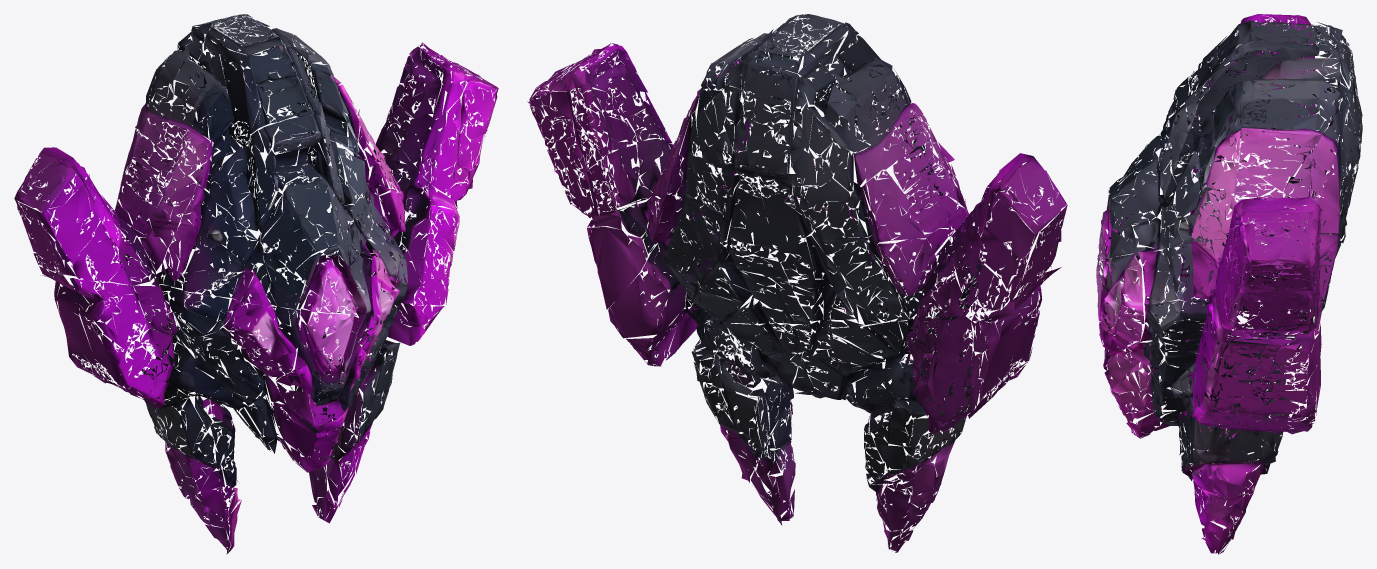
File: pulse-sentinel.glb
3 renders of one model, left to right at view 1: azimuth 30°, elevation 25°; view 2: azimuth 150°, elevation 25°; view 3: azimuth 270°, elevation 25°, orthographic. The views are drawn at different scales.
Parts seen in each view (by area): view 1: tripo_node_c09cff24-6350-4ec5-85e4-1f41aeb8b58c; view 2: tripo_node_c09cff24-6350-4ec5-85e4-1f41aeb8b58c; view 3: tripo_node_c09cff24-6350-4ec5-85e4-1f41aeb8b58c.
Boxes of the visible parts, bbox=[...] form: tripo_node_c09cff24-6350-4ec5-85e4-1f41aeb8b58c: bbox=[14, 14, 498, 554]; tripo_node_c09cff24-6350-4ec5-85e4-1f41aeb8b58c: bbox=[527, 14, 1067, 552]; tripo_node_c09cff24-6350-4ec5-85e4-1f41aeb8b58c: bbox=[1096, 14, 1362, 554].
Bounding box in the file's own units: 0.9777 × 0.9845 × 0.4718.
Materials: 1 (1 with a texture image).
